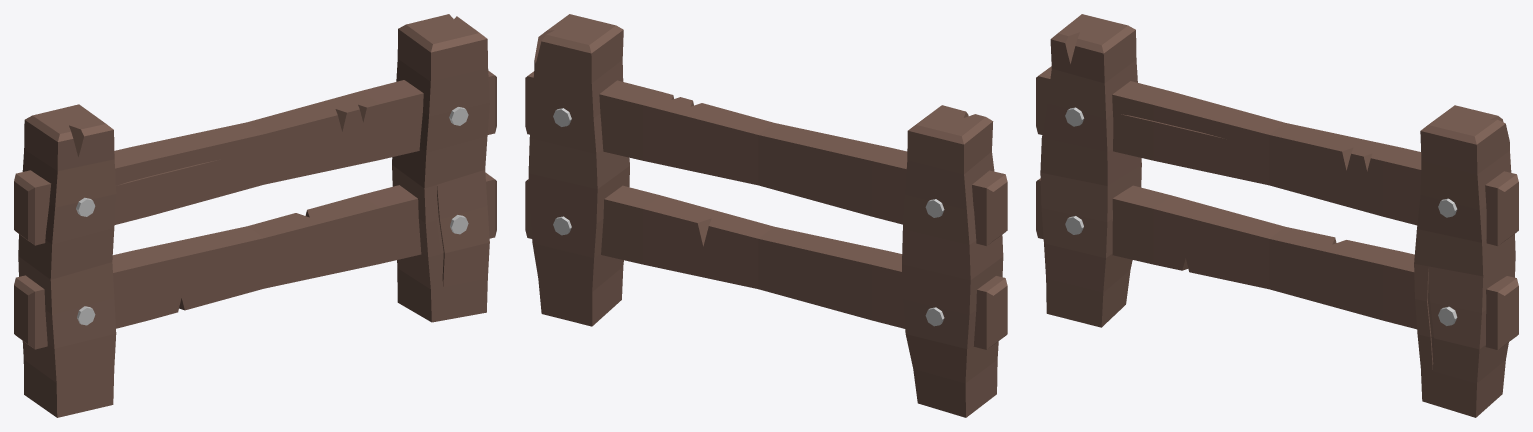
File: Fence 1.fbx
3 renders of one model, left to right at view 1: azimuth 30°, elevation 25°; view 2: azimuth 150°, elevation 25°; view 3: azimuth 330°, elevation 25°, orthographic.
Visible parts, largest first — view 1: Fence 1; view 2: Fence 1; view 3: Fence 1.
Part boxes in pixels (bbox=[...]): Fence 1: bbox=[14, 14, 496, 417]; Fence 1: bbox=[525, 14, 1007, 417]; Fence 1: bbox=[1036, 14, 1518, 417].
Size of the model in its own units: 505 by 287 by 67.57.
